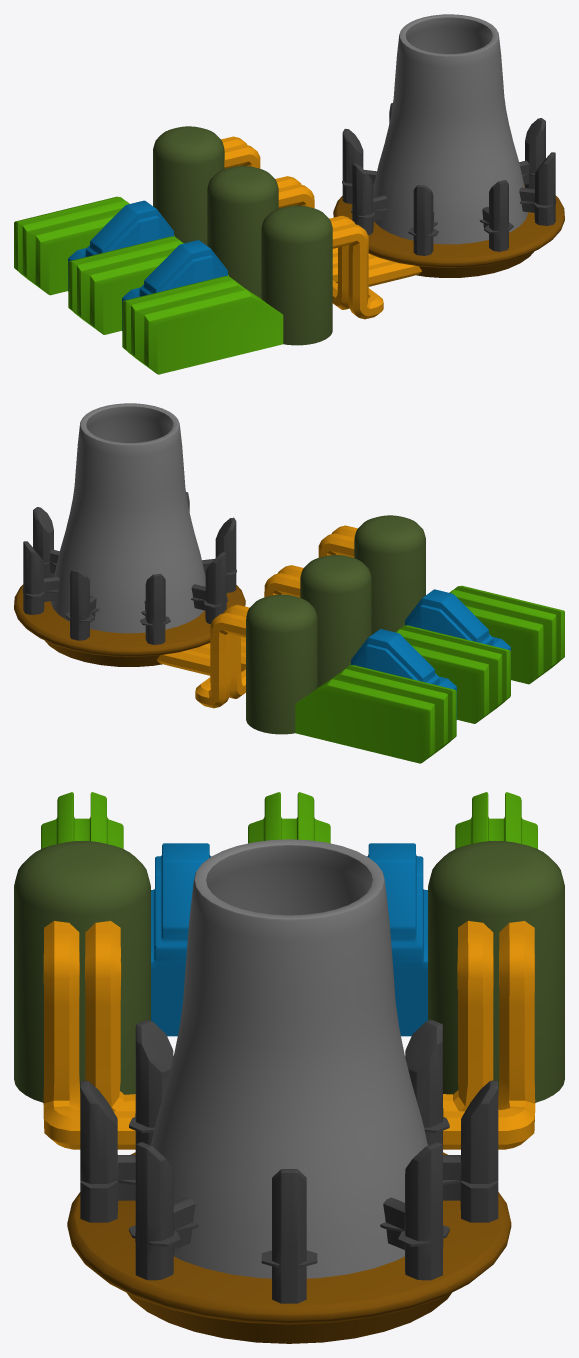
The model's file is PowerPlant (Set 3).fbx.
The picture shows the model from 3 angles, top to bottom: view 1: azimuth 30°, elevation 25°; view 2: azimuth 150°, elevation 25°; view 3: azimuth 270°, elevation 25°; orthographic projection. The views are drawn at different scales.
Visible parts, largest first — view 1: Nuclear Barrel Ground.002; view 2: Nuclear Barrel Ground.002; view 3: Nuclear Barrel Ground.002.
Part boxes in pixels (x1=…): Nuclear Barrel Ground.002: x1=14, y1=14, x2=564, y2=374; Nuclear Barrel Ground.002: x1=14, y1=403, x2=564, y2=763; Nuclear Barrel Ground.002: x1=14, y1=792, x2=564, y2=1343.
Size of the model in its own units: 3482 by 1437 by 1828.
